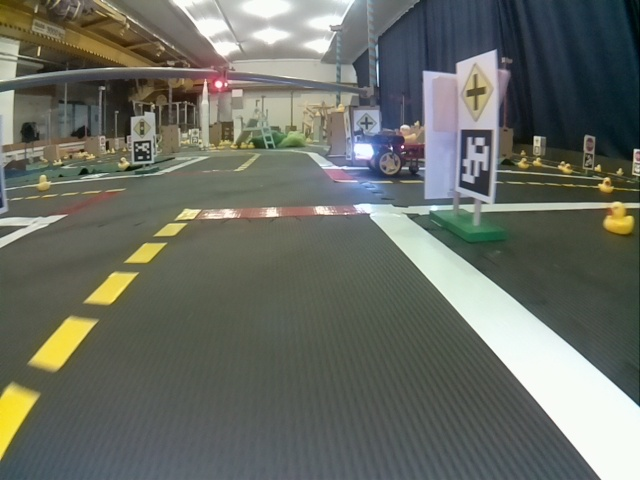Duckie: (604, 202, 630, 233), (399, 125, 416, 144), (598, 178, 614, 192), (37, 174, 51, 190), (118, 157, 130, 170), (563, 164, 571, 173), (519, 159, 527, 167), (533, 157, 541, 165)
Duckiebot: (354, 134, 425, 176)
Intersection sign: (458, 56, 497, 124), (354, 110, 379, 134)
QR code: (456, 129, 496, 200), (132, 140, 154, 163), (345, 137, 354, 160), (583, 153, 593, 169), (630, 163, 640, 175)
Signal sign: (131, 117, 154, 139)
Stop sign: (630, 149, 640, 162), (585, 137, 594, 151)
Traffic light: (213, 67, 228, 91)
